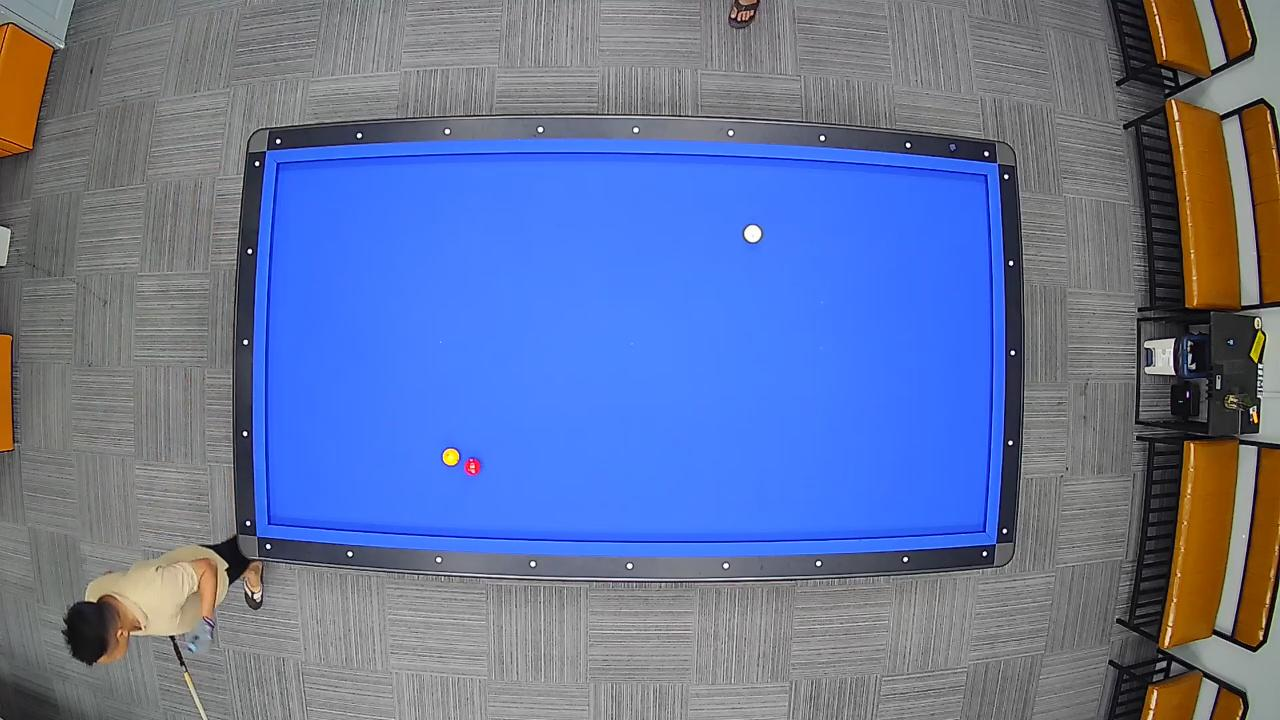Red: (462, 457, 482, 477)
White: (742, 223, 763, 245)
Yellow: (441, 446, 461, 467)
